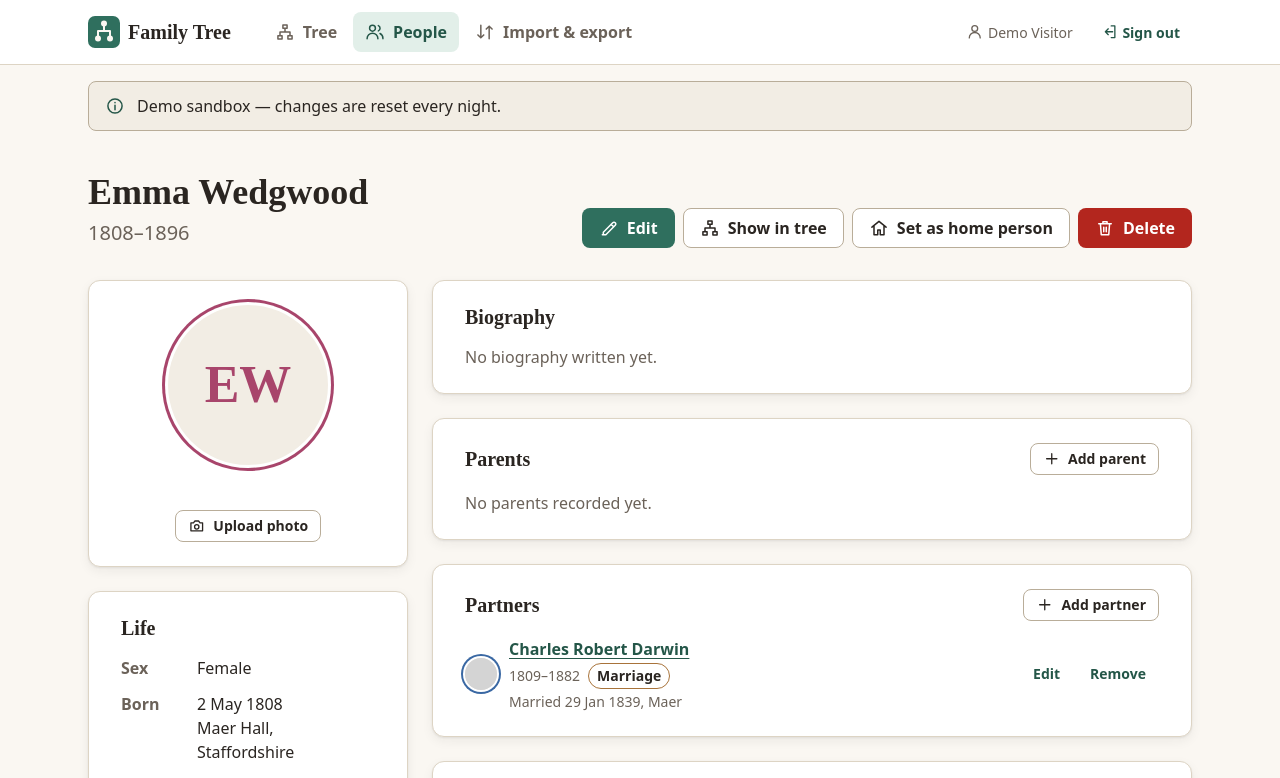
Test: deleting asks for confirmation first and then returns to the people list
Click the button "Delete": (1135, 228) left=1078, top=208, right=1192, bottom=248
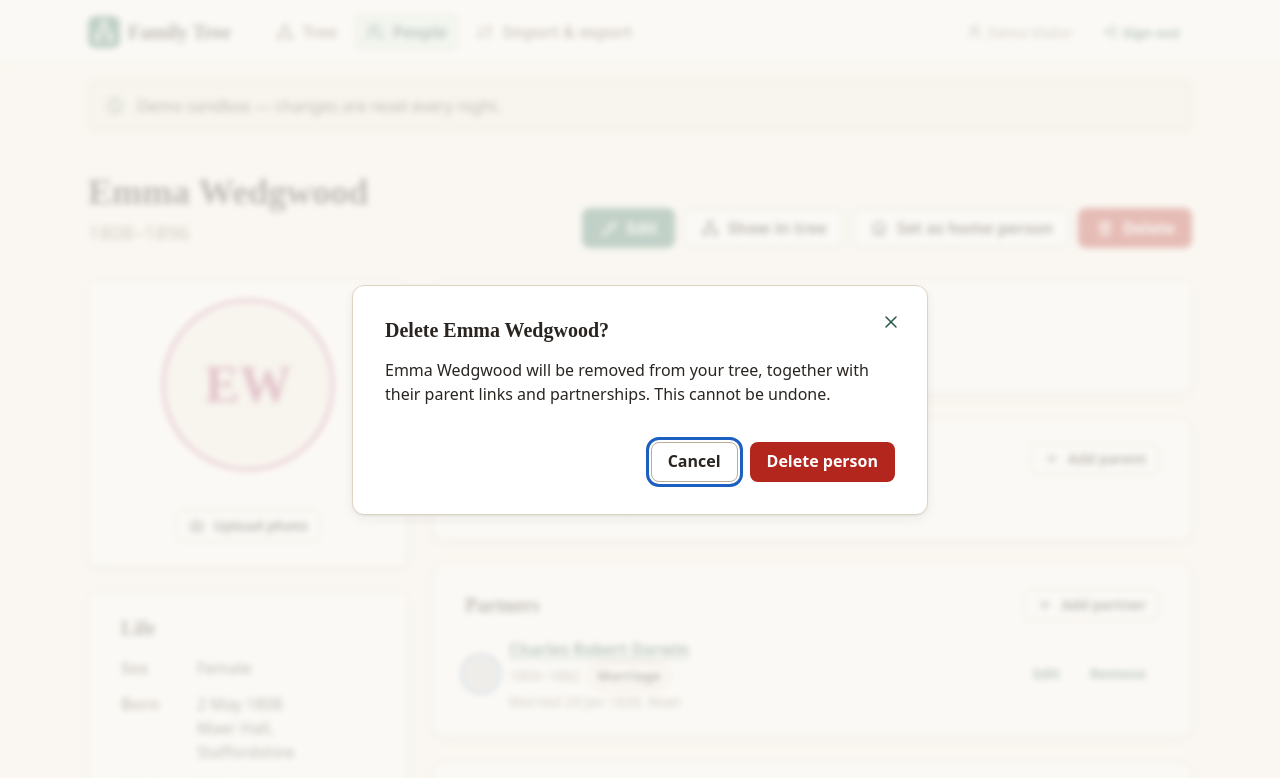
Click the button "Cancel": (694, 462) left=651, top=442, right=738, bottom=482
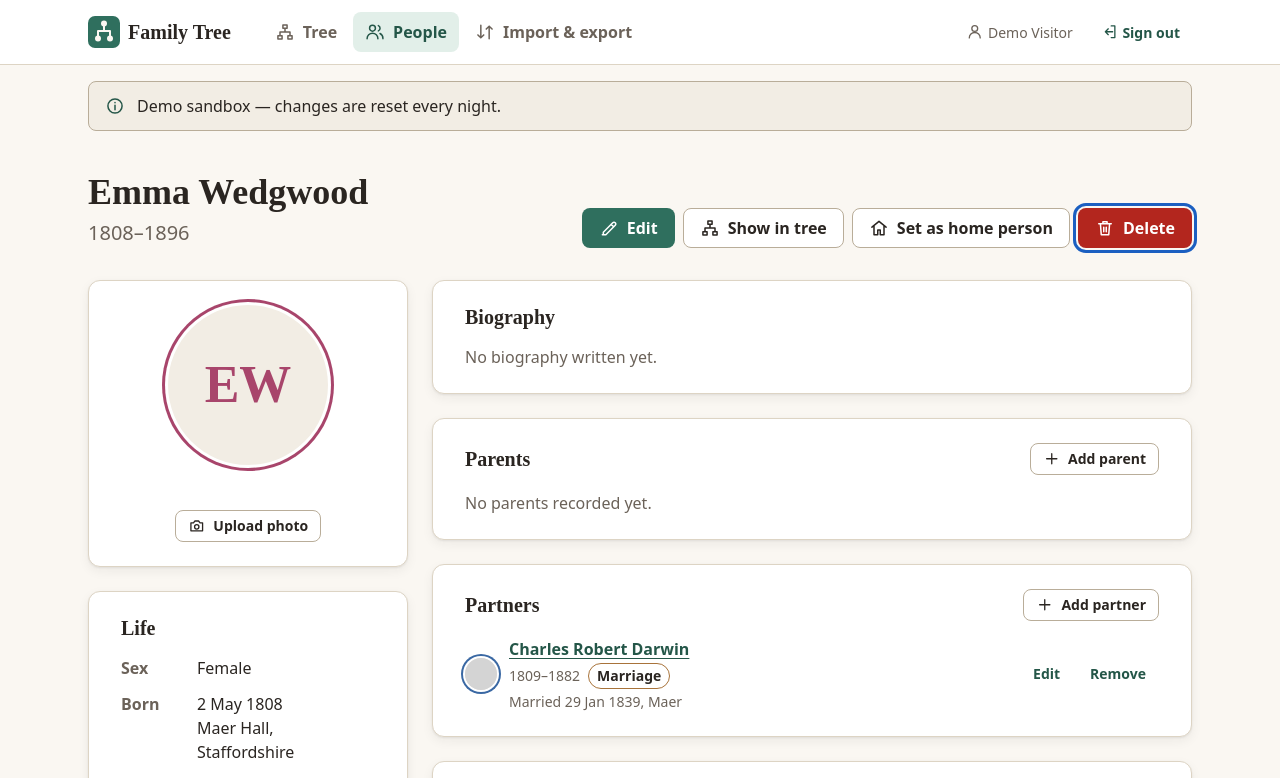
Expected: the dialog is gone
Click the button "Delete": (1135, 228) left=1078, top=208, right=1192, bottom=248
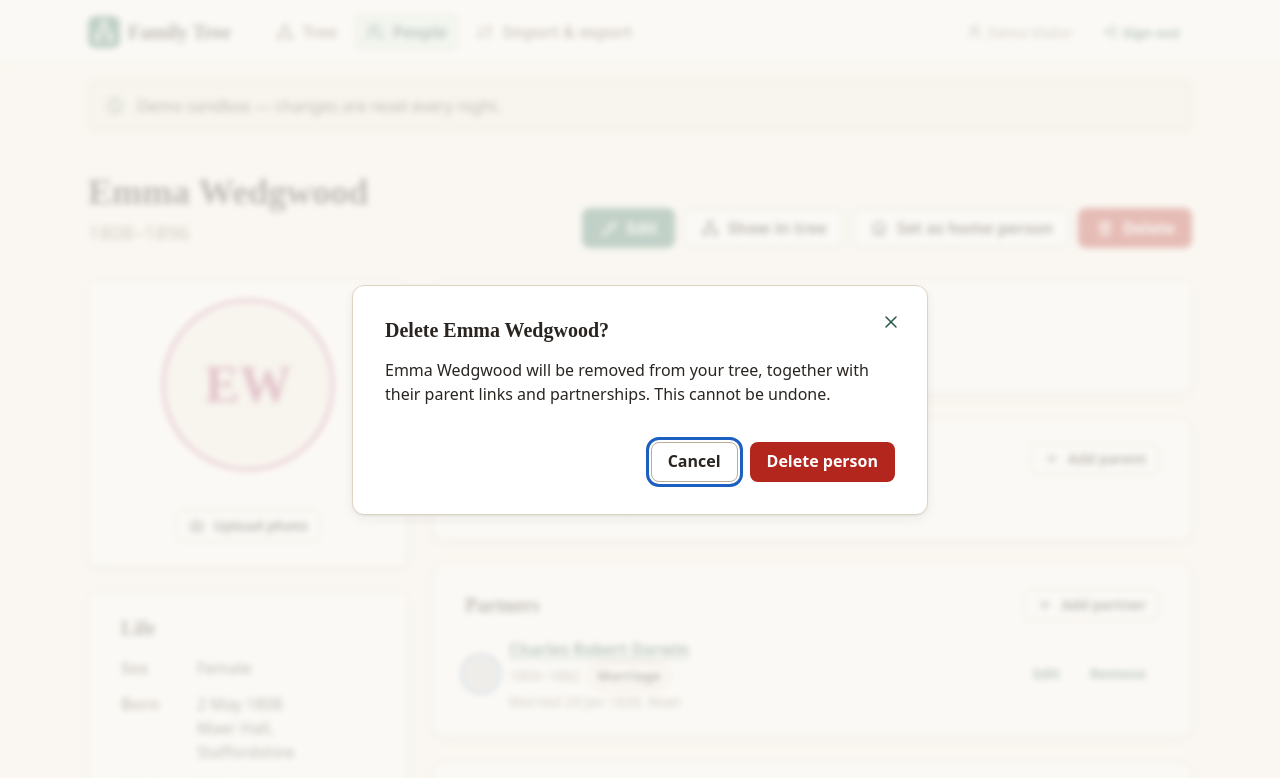
Click the button "Delete person": (822, 462) left=750, top=442, right=895, bottom=482
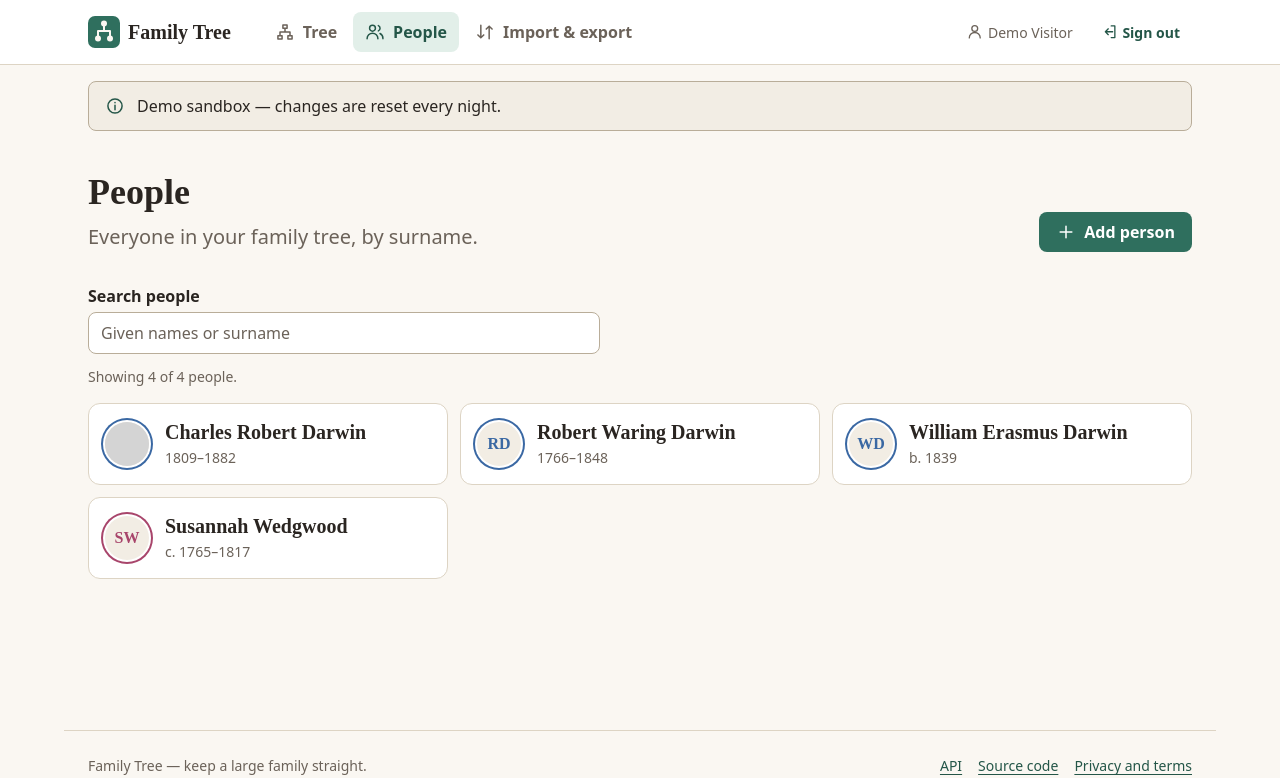
Expected: the link "Charles Robert Darwin 1809–1882" is shown, left=88, top=403, right=448, bottom=485
Expected: the heading "Emma Wedgwood" is gone
